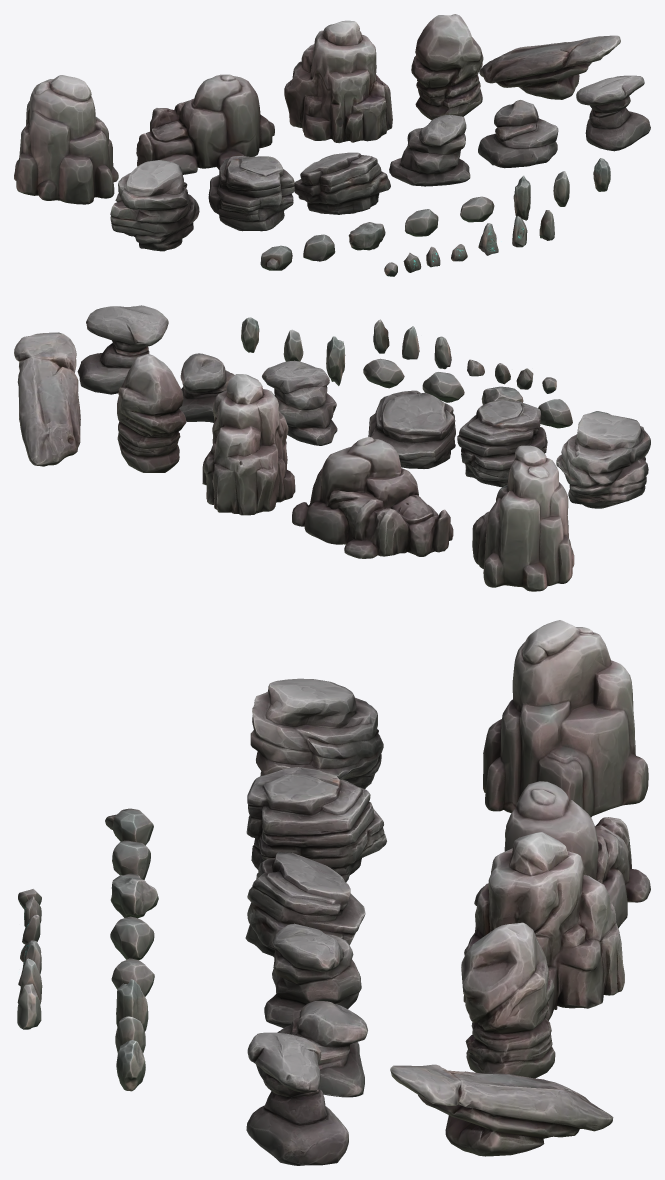
File: NAT_StonePack.glb
The picture shows the model from 3 angles, top to bottom: view 1: azimuth 30°, elevation 25°; view 2: azimuth 150°, elevation 25°; view 3: azimuth 270°, elevation 25°; orthographic projection. The views are drawn at different scales.
Parts seen in each view (by area): view 1: BIG_1_BiG_0, Big_3_BiG_0, Big_2_BiG_0, Mid_4_MID_0 (×2), Mid_1_MID_0, Big_4_BiG_0, Mid_2_MID_0, Big_5_BiG_0, Mid_3_MID_0, Mid_5_MID_0, Small_3_SMall_0, Small_4_SMall_0 (+9 smaller); view 2: Big_2_BiG_0, BIG_1_BiG_0, Big_3_BiG_0, Big_5_BiG_0, Mid_1_MID_0, Mid_4_MID_0 (×2), Big_4_BiG_0, Mid_2_MID_0, Mid_3_MID_0, Mid_5_MID_0, Small_4_SMall_0, Small_5_SMall_0 (+8 smaller); view 3: BIG_1_BiG_0, Big_3_BiG_0, Big_5_BiG_0, Big_4_BiG_0, Mid_4_MID_0 (×2), Mid_2_MID_0, Mid_1_MID_0, Mid_5_MID_0, Big_2_BiG_0, Mid_3_MID_0, Small_3_SMall_0, Small_4_SMall_0 (+6 smaller).
Part boxes in pixels (x1,y1,x2,y2): BIG_1_BiG_0: (14,75,118,204); Big_3_BiG_0: (284,20,392,143); Big_2_BiG_0: (136,74,274,174); Mid_4_MID_0 (×2): (389,100,558,186); Mid_1_MID_0: (110,160,199,251); Big_4_BiG_0: (411,14,483,120); Mid_2_MID_0: (208,156,294,231); Big_5_BiG_0: (479,35,620,99); Mid_3_MID_0: (294,152,390,214); Mid_5_MID_0: (576,75,650,151); Small_3_SMall_0: (348,222,385,250); Small_4_SMall_0: (405,209,438,236); Big_2_BiG_0: (292,437,453,558); BIG_1_BiG_0: (472,445,574,591); Big_3_BiG_0: (202,374,295,515); Big_5_BiG_0: (14,332,80,466); Mid_1_MID_0: (556,413,650,508); Mid_4_MID_0 (×2): (179,353,337,445); Big_4_BiG_0: (117,354,186,472); Mid_2_MID_0: (457,400,547,487); Mid_3_MID_0: (368,390,455,468); Mid_5_MID_0: (77,305,168,394); Small_4_SMall_0: (422,372,464,402); Small_5_SMall_0: (363,358,404,388); BIG_1_BiG_0: (483,620,648,817); Big_3_BiG_0: (463,832,624,1020); Big_5_BiG_0: (390,1064,613,1156); Big_4_BiG_0: (461,922,555,1078); Mid_4_MID_0 (×2): (256,923,367,1097); Mid_2_MID_0: (246,767,386,882); Mid_1_MID_0: (250,678,383,789); Mid_5_MID_0: (246,1032,348,1165); Big_2_BiG_0: (474,781,650,928); Mid_3_MID_0: (245,852,365,957); Small_3_SMall_0: (110,873,158,918); Small_4_SMall_0: (110,916,154,959).
Size of the model in its own units: 29.58 by 6.14 by 19.08.
6 materials, 6 textured.
